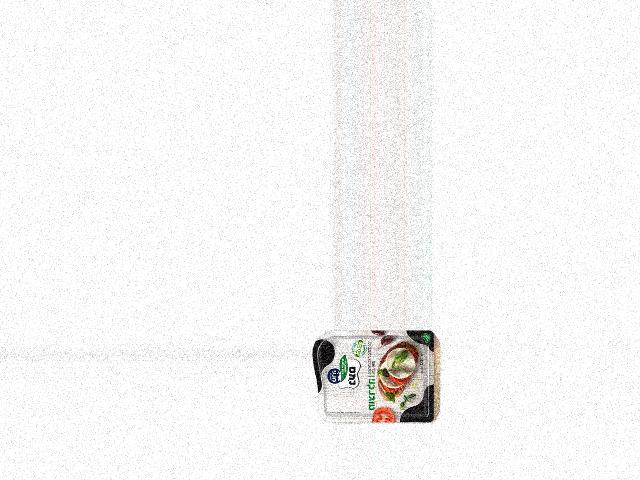cheese: (314, 330, 435, 424)
